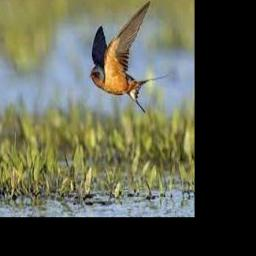Swallow: (90, 1, 169, 113)
